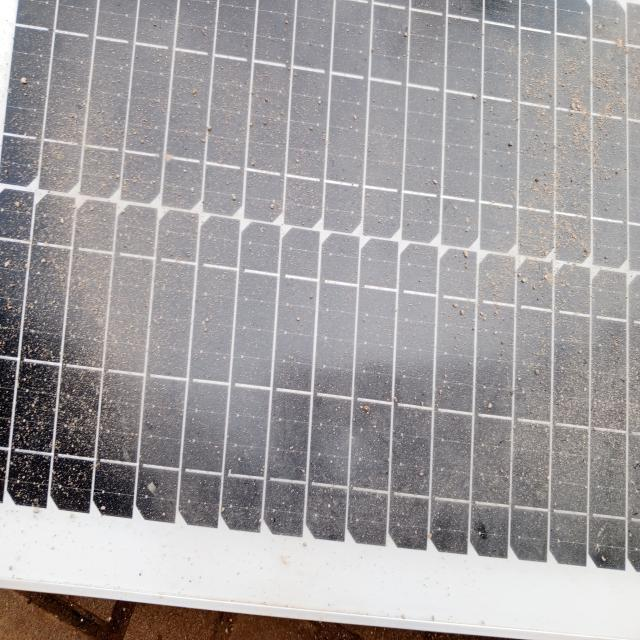Anomaly Solar Panel: (1, 1, 640, 586)
Surface Contaminant: (12, 6, 633, 570)
